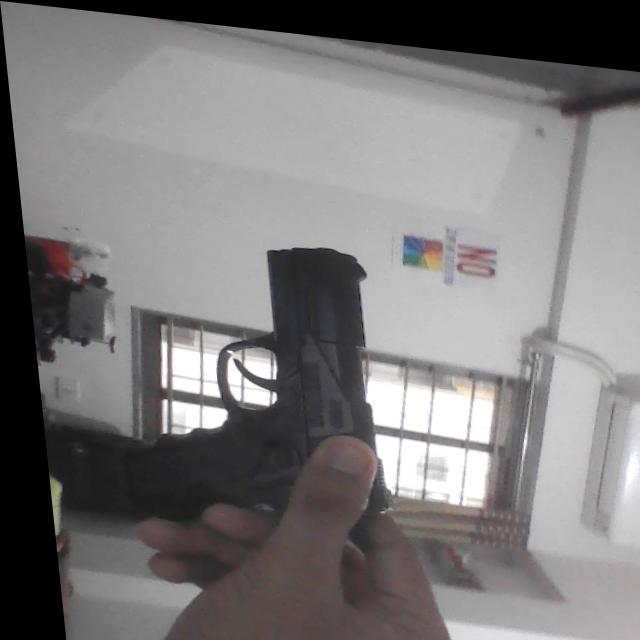handgun: (86, 220, 387, 547)
